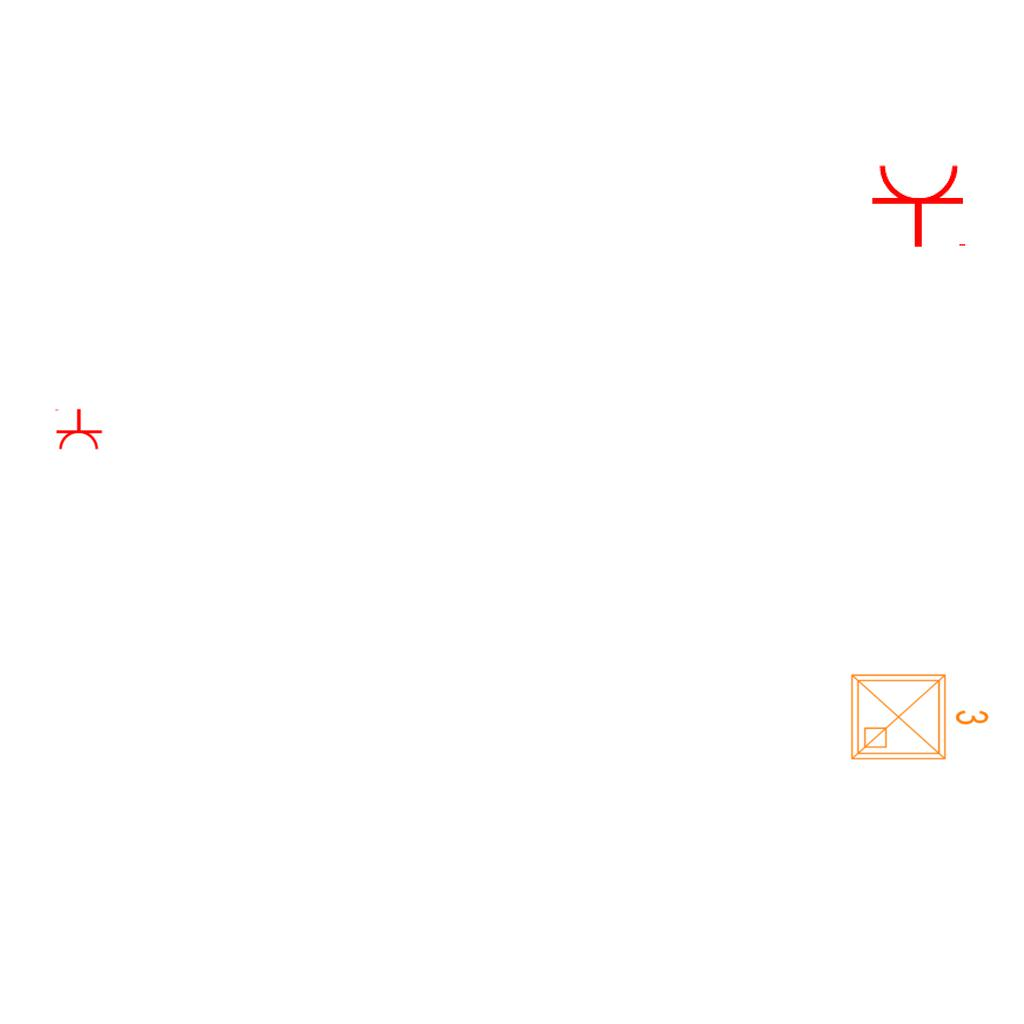Einbaudownlights_LED_Konferenzraeume: (844, 663, 994, 767)
Schukosteckdose_einfach: (870, 162, 970, 249), (53, 408, 103, 451)
